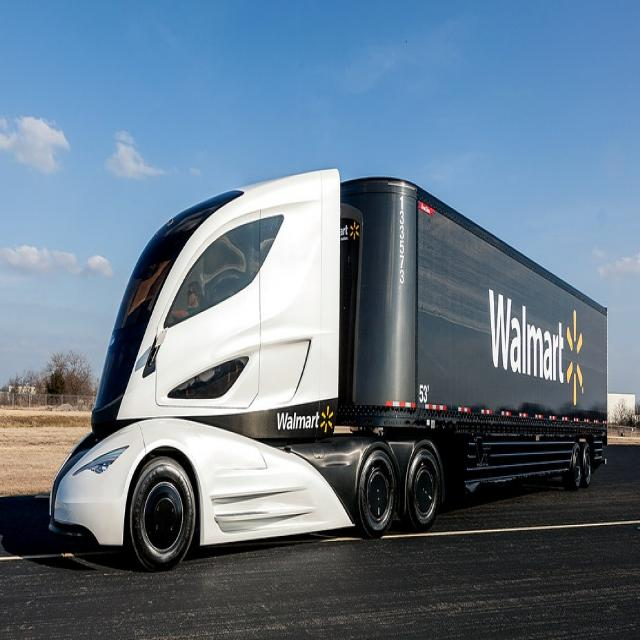truck: (41, 122, 624, 572)
